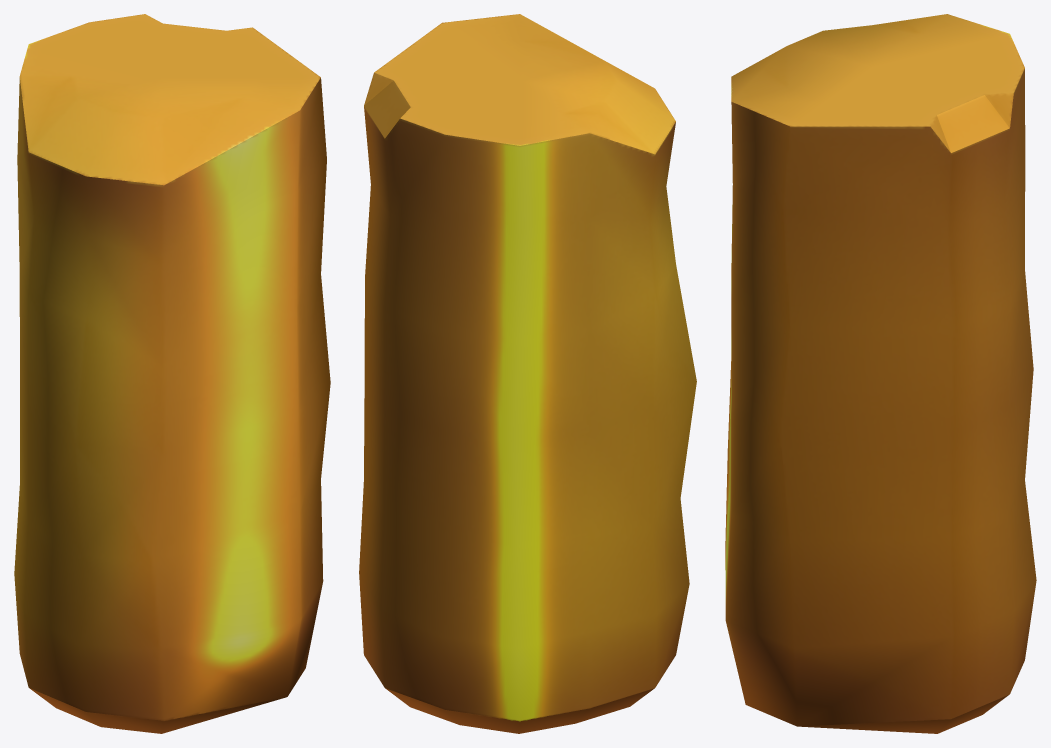
File: Gold.fbx
3 renders of one model, left to right at view 1: azimuth 30°, elevation 25°; view 2: azimuth 150°, elevation 25°; view 3: azimuth 270°, elevation 25°, orthographic. The views are drawn at different scales.
Visible parts, largest first — view 1: Gold; view 2: Gold; view 3: Gold.
Boxes of the visible parts, box(x1,y1,x2,y2) form: Gold: box(14, 14, 330, 733); Gold: box(359, 14, 696, 733); Gold: box(725, 14, 1036, 733).
Bounding box in the file's own units: 193 × 425 × 194.
Materials: 1 (1 with a texture image).
